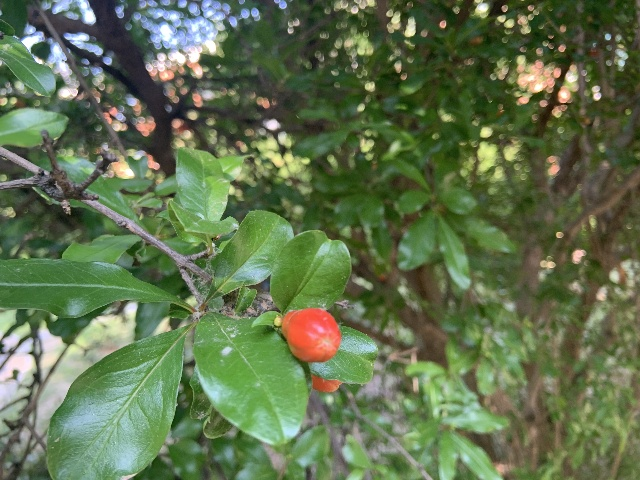bud: (282, 307, 340, 363), (310, 373, 340, 392)
